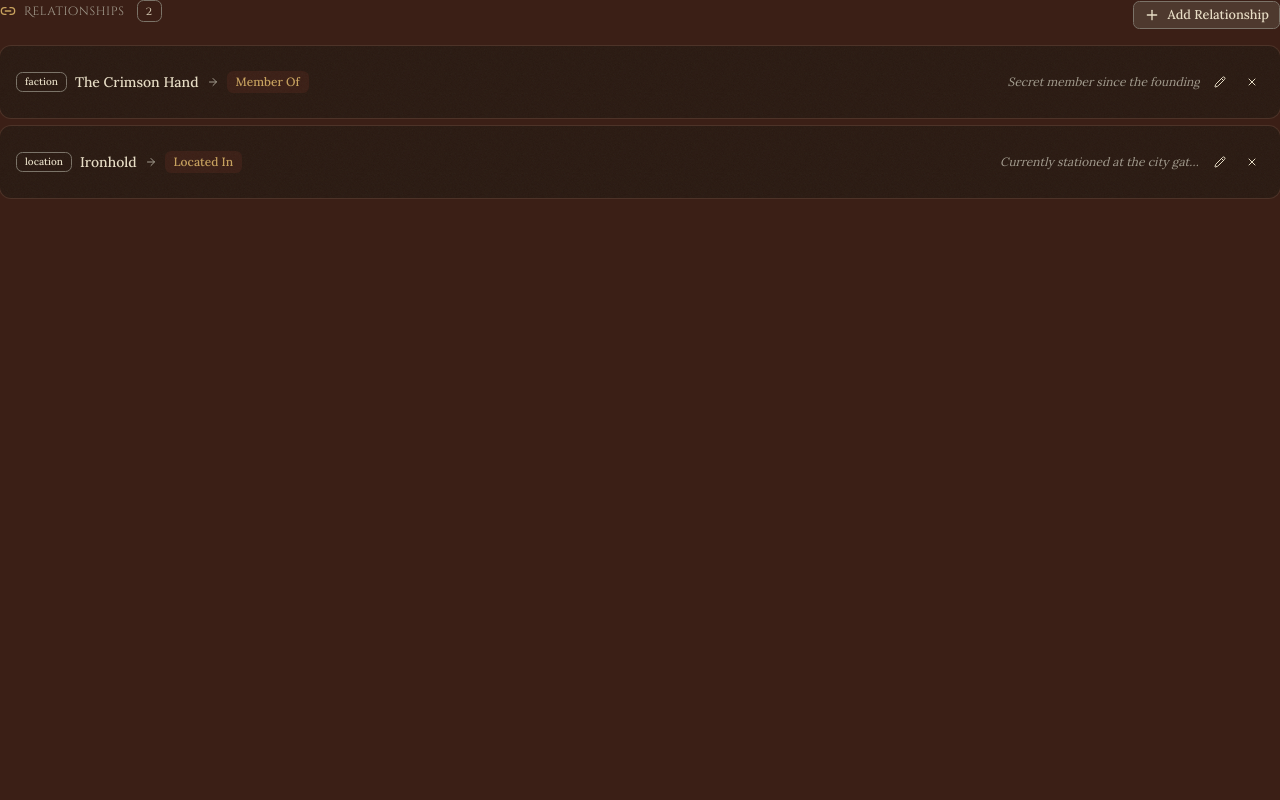
it: RelationsPanel › opens edit dialog with current values when edit is clicked
This screenshot has width=1280, height=800.
Click the button named "Edit relation" next to "Secret member since the founding".
click(1220, 82)  # box [1208, 70, 1232, 94]
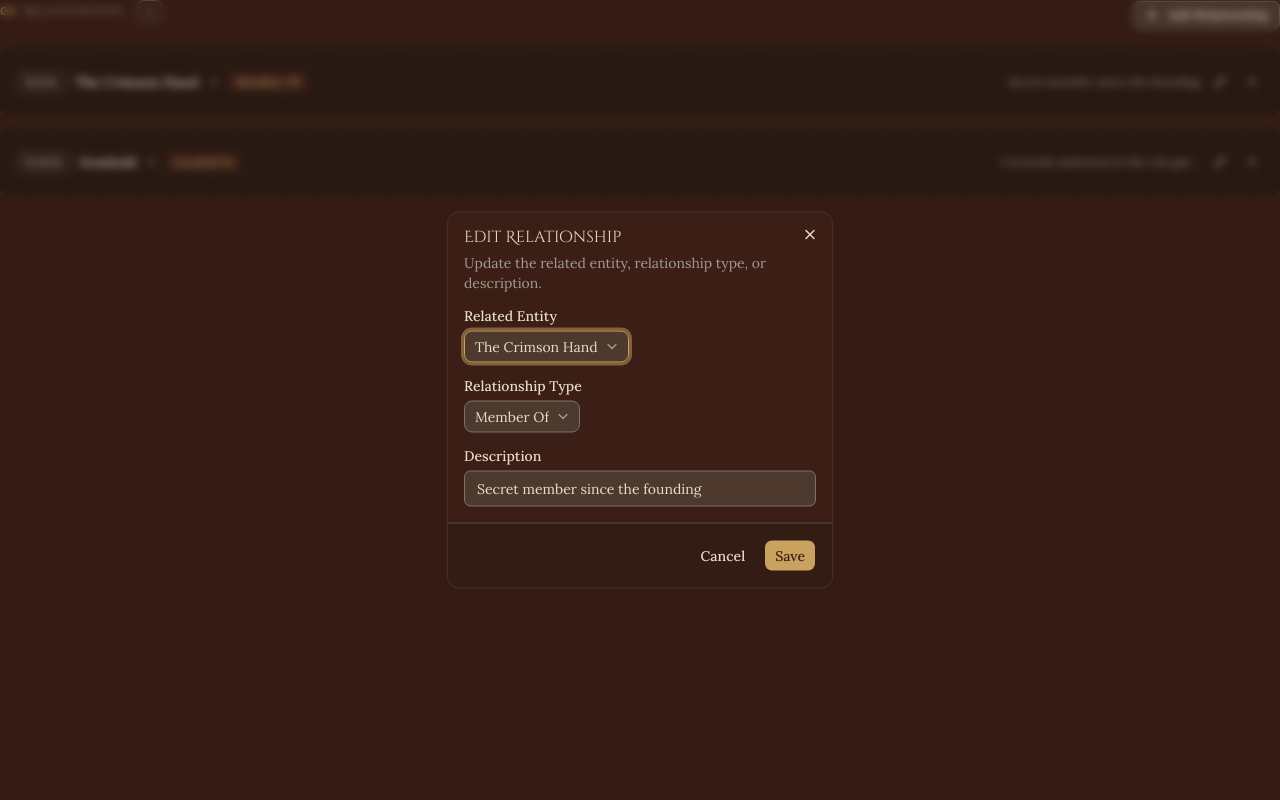
Check: the heading "Edit Relationship" is shown, box [464, 226, 622, 248]
